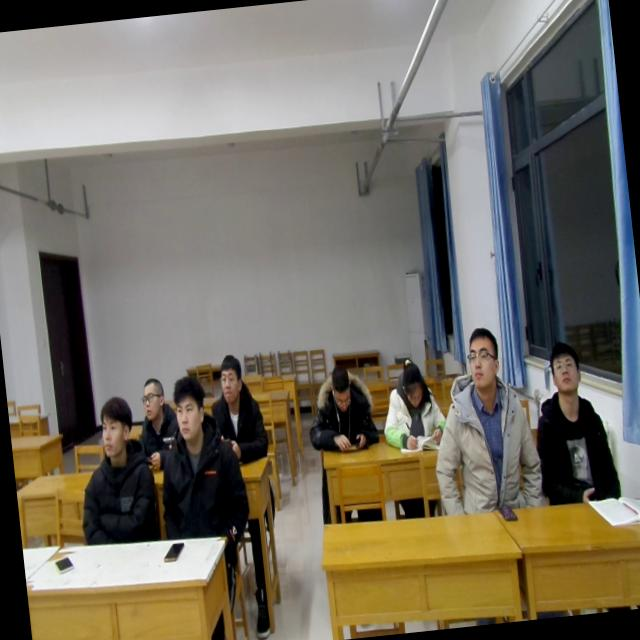down: (324, 358, 356, 413), (398, 359, 430, 414)
lookup: (166, 367, 210, 442), (91, 390, 138, 460), (459, 322, 504, 392), (542, 338, 584, 404), (212, 349, 246, 413), (136, 372, 167, 422)
sit: (422, 322, 545, 518), (150, 374, 249, 546), (524, 340, 620, 508), (68, 392, 158, 549), (373, 350, 446, 456), (208, 346, 273, 461), (302, 355, 380, 449), (130, 369, 172, 443)
